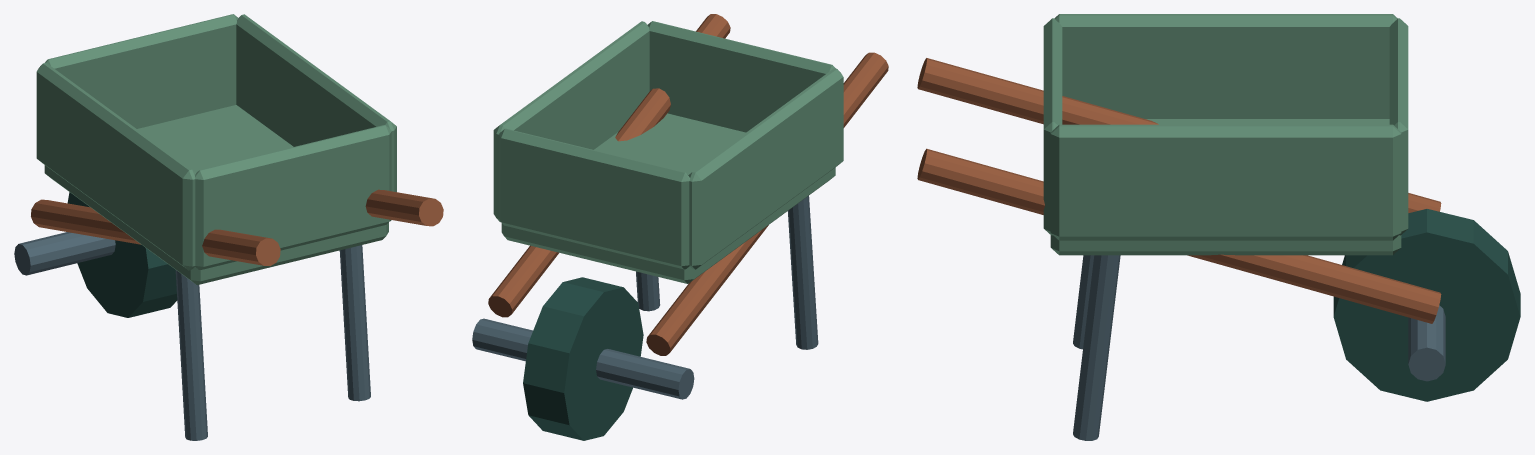
File: market_15_Wheelbarrow.glb
3 views of the same model, side by side, from view 1: azimuth 30°, elevation 25°; view 2: azimuth 150°, elevation 25°; view 3: azimuth 270°, elevation 25° (orthographic). The views are drawn at different scales.
Visible parts, largest first — view 1: 15_Wheelbarrow; view 2: 15_Wheelbarrow; view 3: 15_Wheelbarrow.
Boxes of the visible parts, <box> form: 15_Wheelbarrow: <box>14,14,443,440</box>; 15_Wheelbarrow: <box>472,14,888,440</box>; 15_Wheelbarrow: <box>917,14,1520,440</box>.
Bounding box in the file's own units: 0.605 × 0.758 × 1.29.
